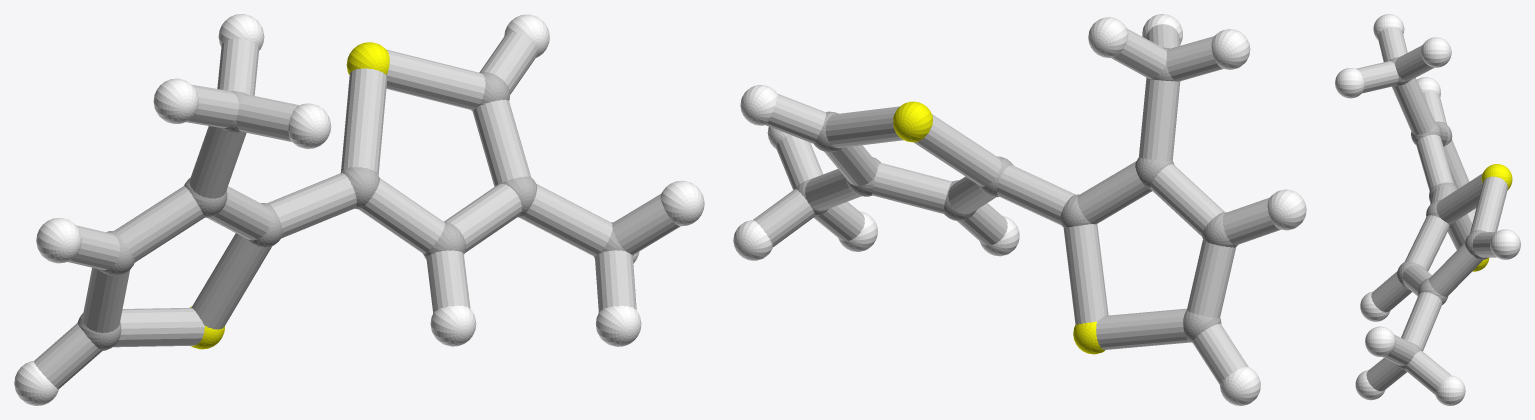
File: Methylthiophene_Phi_15_Theta_300_Methylthiophene.glb
3 views of the same model, side by side, from view 1: azimuth 30°, elevation 25°; view 2: azimuth 150°, elevation 25°; view 3: azimuth 270°, elevation 25° (orthographic). The views are drawn at different scales.
Visible parts, largest first — view 1: grp7965, grp3621, grp1, grp7241; view 2: grp7965, grp3621, grp1, grp7241; view 3: grp7965, grp3621, grp1, grp7241.
Part boxes in pixels (x1=…): grp7965: x1=34, y1=31, x2=680, y2=389; grp3621: x1=14, y1=14, x2=704, y2=405; grp1: x1=77, y1=72, x2=632, y2=350; grp7241: x1=190, y1=42, x2=389, y2=349; grp7965: x1=753, y1=24, x2=1280, y2=384; grp3621: x1=733, y1=14, x2=1306, y2=405; grp1: x1=795, y1=47, x2=1237, y2=342; grp7241: x1=893, y1=101, x2=1105, y2=354; grp7965: x1=1356, y1=27, x2=1507, y2=394; grp3621: x1=1335, y1=14, x2=1520, y2=405; grp1: x1=1389, y1=57, x2=1488, y2=370; grp7241: x1=1472, y1=164, x2=1512, y2=271.
Size of the model in its own units: 9.53 by 5.41 by 3.62.
